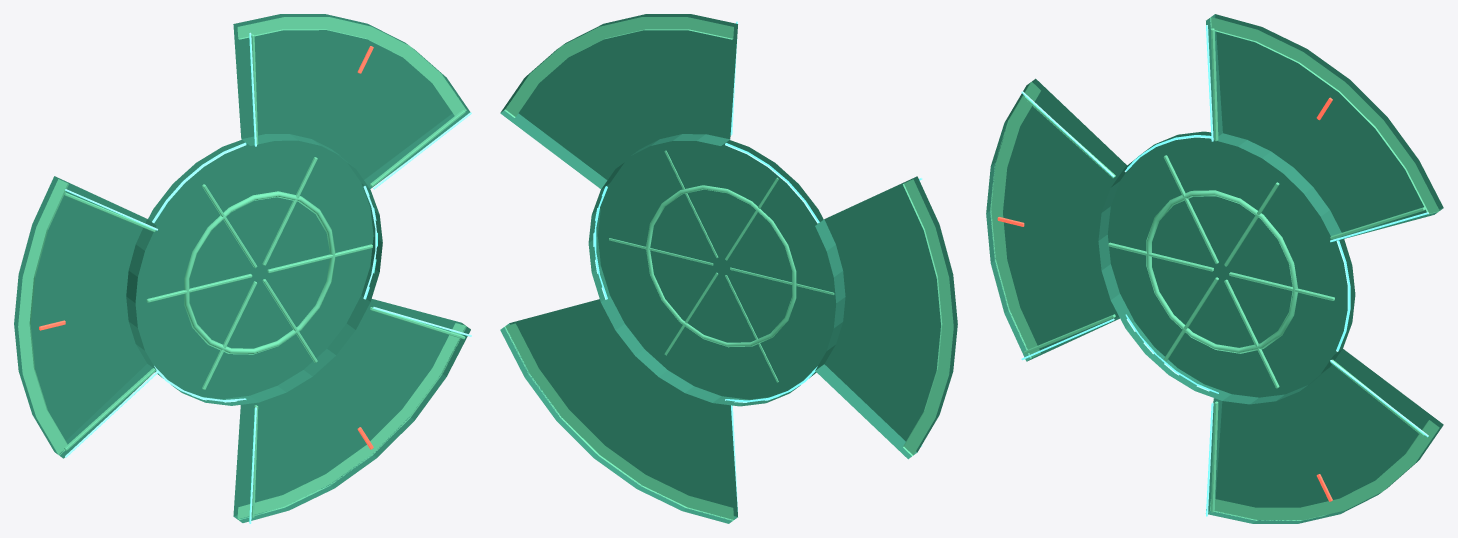
Rendered from bio-panel-fun3-low.glb.
The picture shows the model from 3 angles, left to right: view 1: azimuth 30°, elevation 25°; view 2: azimuth 150°, elevation 25°; view 3: azimuth 330°, elevation 25°; orthographic projection.
Visible parts, largest first — view 1: RENDER_PANEL_SHELL, RENDER_PANEL_FRAME, RENDER_PANEL_SIGNAL; view 2: RENDER_PANEL_SHELL, RENDER_PANEL_FRAME, RENDER_PANEL_SIGNAL; view 3: RENDER_PANEL_SHELL, RENDER_PANEL_FRAME, RENDER_PANEL_SIGNAL.
Part boxes in pixels (x1=…): RENDER_PANEL_SHELL: x1=14, y1=14, x2=470, y2=522; RENDER_PANEL_FRAME: x1=18, y1=17, x2=466, y2=520; RENDER_PANEL_SIGNAL: x1=65, y1=32, x2=471, y2=523; RENDER_PANEL_SHELL: x1=500, y1=14, x2=957, y2=523; RENDER_PANEL_FRAME: x1=504, y1=17, x2=953, y2=520; RENDER_PANEL_SIGNAL: x1=593, y1=21, x2=922, y2=511; RENDER_PANEL_SHELL: x1=986, y1=14, x2=1443, y2=523; RENDER_PANEL_FRAME: x1=990, y1=17, x2=1439, y2=520; RENDER_PANEL_SIGNAL: x1=1021, y1=25, x2=1428, y2=516.
Size of what is drawn, in the model's own units: 38.93 by 40.9 by 1.95.
